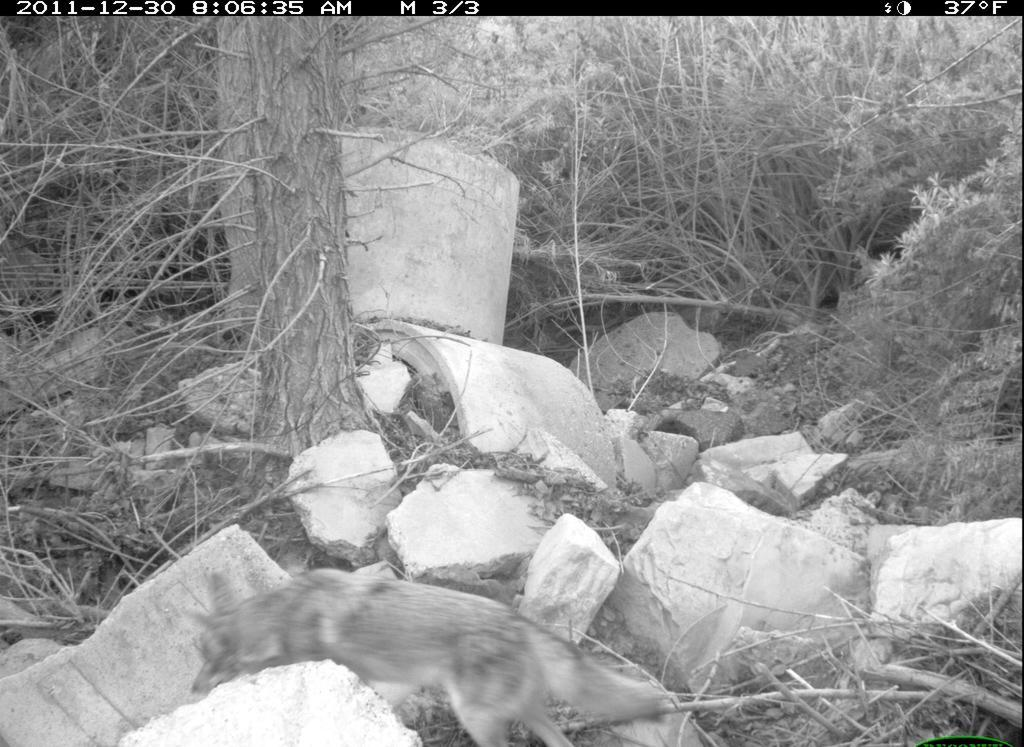coyote: (177, 553, 684, 744)
